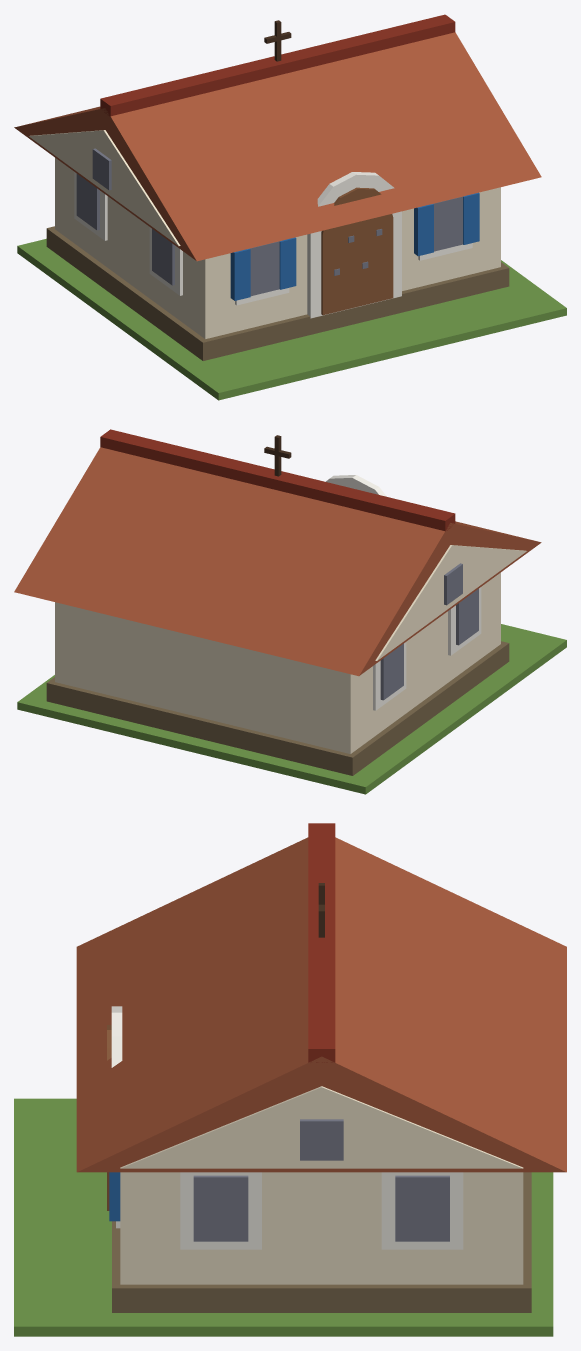
Rendered from house-1x1-1f-andean-a.glb.
3 views of the same model, one above another, from view 1: azimuth 30°, elevation 25°; view 2: azimuth 150°, elevation 25°; view 3: azimuth 270°, elevation 25° (orthographic). The views are drawn at different scales.
Parts seen in each view (by area): view 1: house-1x1-1f-andean-a; view 2: house-1x1-1f-andean-a; view 3: house-1x1-1f-andean-a.
Boxes of the visible parts, x1,y1,x2,y2 form: house-1x1-1f-andean-a: (14,14,566,400); house-1x1-1f-andean-a: (14,429,566,794); house-1x1-1f-andean-a: (14,823,566,1336).
Bounding box in the file's own units: 1.01 × 0.685 × 1.01.
1 material, 1 textured.
